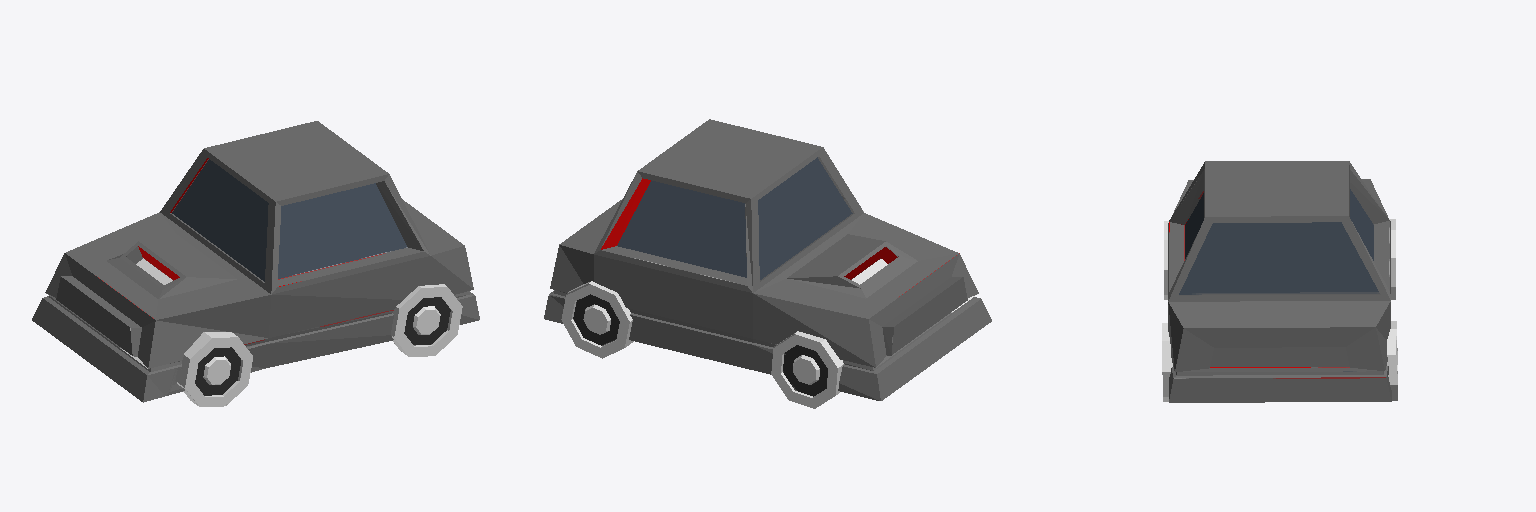
The picture shows the model from 3 angles: view 1: azimuth 30°, elevation 25°; view 2: azimuth 150°, elevation 25°; view 3: azimuth 270°, elevation 25°; orthographic projection.
Visible parts, largest first — view 1: Car-1_Cylinder.002; view 2: Car-1_Cylinder.002; view 3: Car-1_Cylinder.002.
Part boxes in pixels (bbox=[...]): Car-1_Cylinder.002: bbox=[32, 121, 479, 406]; Car-1_Cylinder.002: bbox=[544, 119, 991, 408]; Car-1_Cylinder.002: bbox=[1162, 161, 1397, 402].
Bounding box in the file's own units: 0.9306 × 0.4569 × 0.562.
Materials: 5 (1 with a texture image).